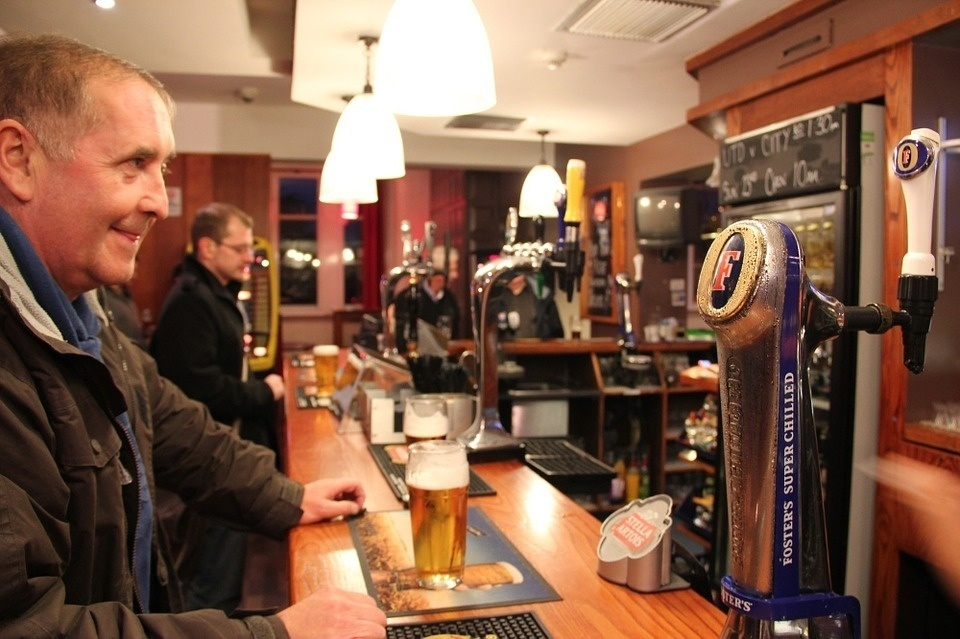whiskey: (410, 433, 468, 587)
